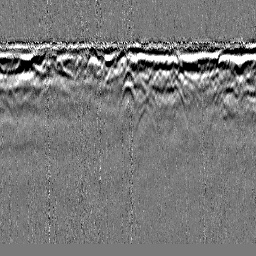cavity: (121, 64, 135, 86)
